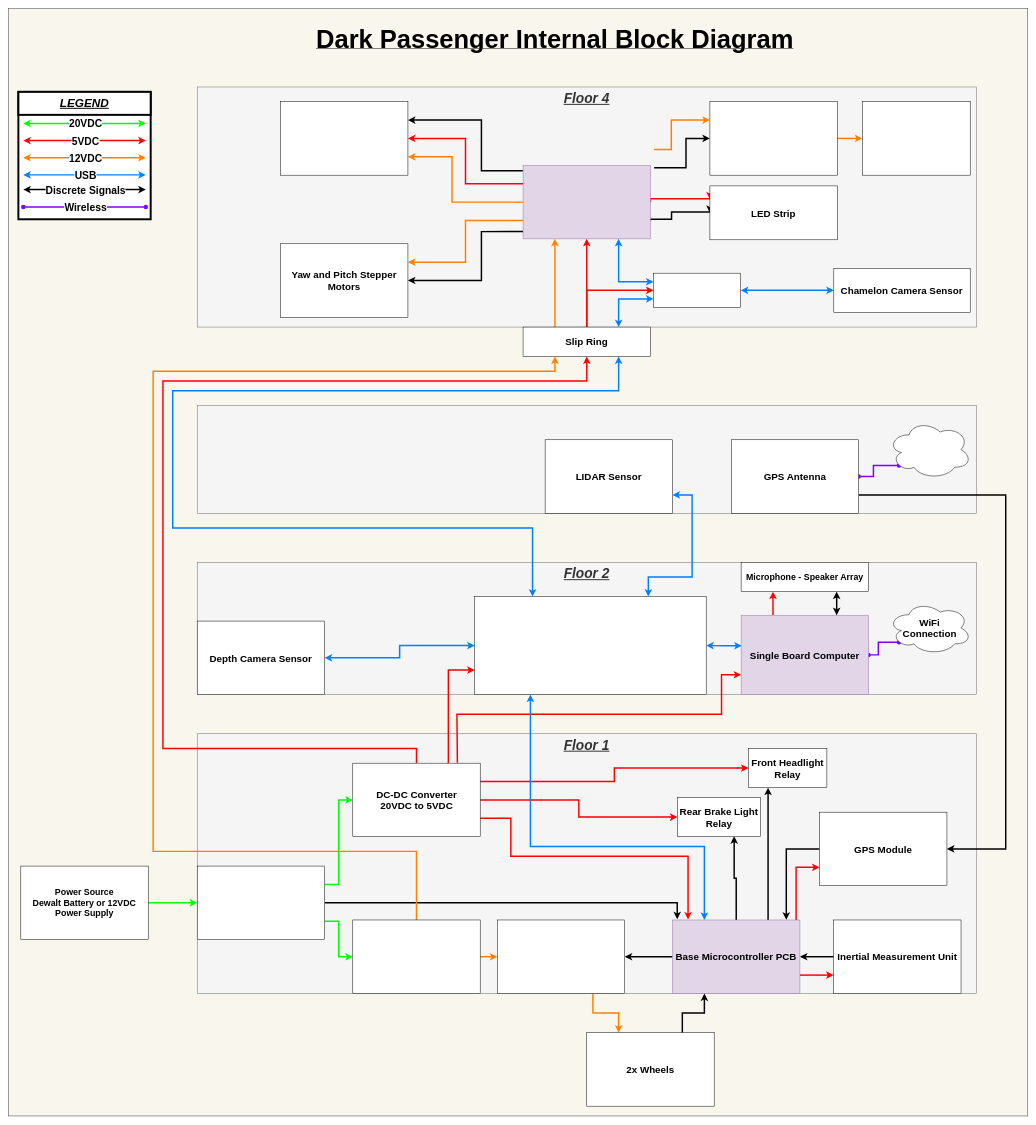
Image size: 1036x1125. Some labels were removed from this diagram. Here are the shapes that lost their labels. From the top down, the box of each, then its label:
(280, 101, 408, 175): Laser, Turret LED, Cooling Fan Relays
(709, 101, 837, 175): Turret Motor Driver
(862, 101, 970, 175): Turret Gearbox
(523, 165, 650, 239): Turret Microcontroller PCB
(653, 273, 741, 307): USB HUB
(197, 405, 976, 513): Floor 3
(888, 420, 971, 479): Satellite Connection
(474, 596, 706, 695): USB HUBS
(197, 866, 325, 940): Power Distribution PCB
(352, 919, 480, 993): DC-DC Converter 20VDC to 12VDC
(497, 919, 625, 993): Motor Controller
